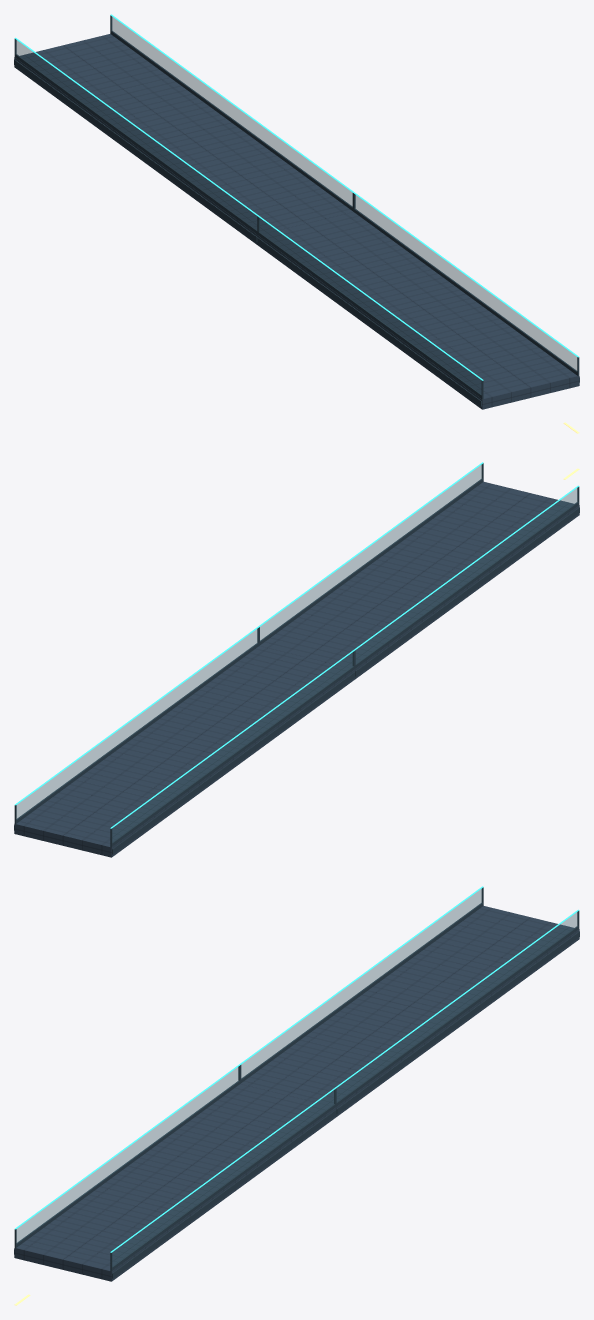
Rendered from v02-detailed-04-05-coffered.glb.
3 views of the same model, one above another, from view 1: azimuth 30°, elevation 25°; view 2: azimuth 150°, elevation 25°; view 3: azimuth 330°, elevation 25° (orthographic).
Visible parts, largest first — view 1: v02-detailed-04-05-coffered; view 2: v02-detailed-04-05-coffered; view 3: v02-detailed-04-05-coffered.
Boxes of the visible parts, bbox=[...] form: v02-detailed-04-05-coffered: bbox=[14, 14, 579, 433]; v02-detailed-04-05-coffered: bbox=[14, 462, 579, 857]; v02-detailed-04-05-coffered: bbox=[14, 886, 579, 1305].
Size of the model in its own units: 6.1 by 1.76 by 55.08.
Materials: 5 (1 with a texture image).
